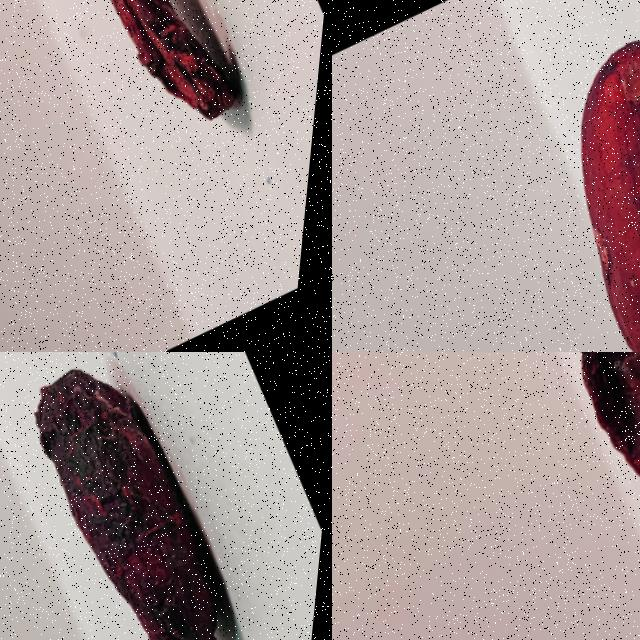Fine_cocoabeans: (0, 352, 331, 639), (469, 0, 639, 351)
Flat_cocoabeans: (0, 0, 331, 231), (477, 352, 639, 639)
